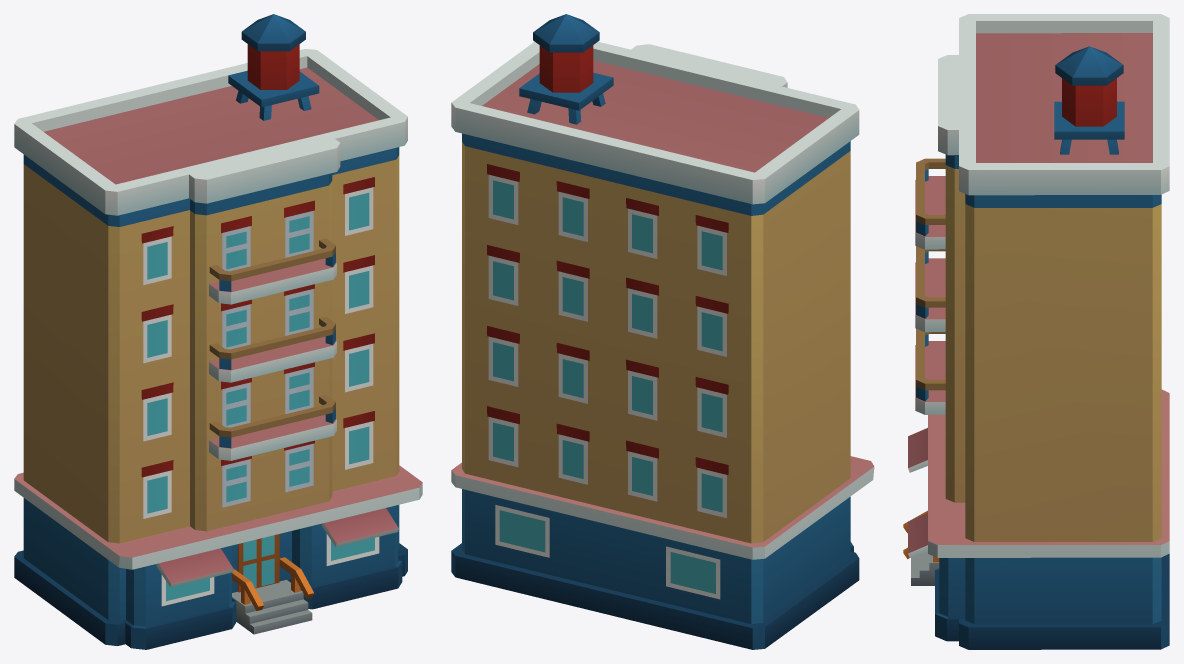
Rendered from Building_cartoon_17.fbx.
3 renders of one model, left to right at view 1: azimuth 30°, elevation 25°; view 2: azimuth 150°, elevation 25°; view 3: azimuth 270°, elevation 25°, orthographic. The views are drawn at different scales.
Parts seen in each view (by area): view 1: Building_cartoon_17; view 2: Building_cartoon_17; view 3: Building_cartoon_17.
Boxes of the visible parts, x1,y1,x2,y2 form: Building_cartoon_17: (14, 14, 422, 649); Building_cartoon_17: (451, 14, 874, 649); Building_cartoon_17: (903, 14, 1169, 649).
Size of the model in its own units: 1365 by 2298 by 984.
